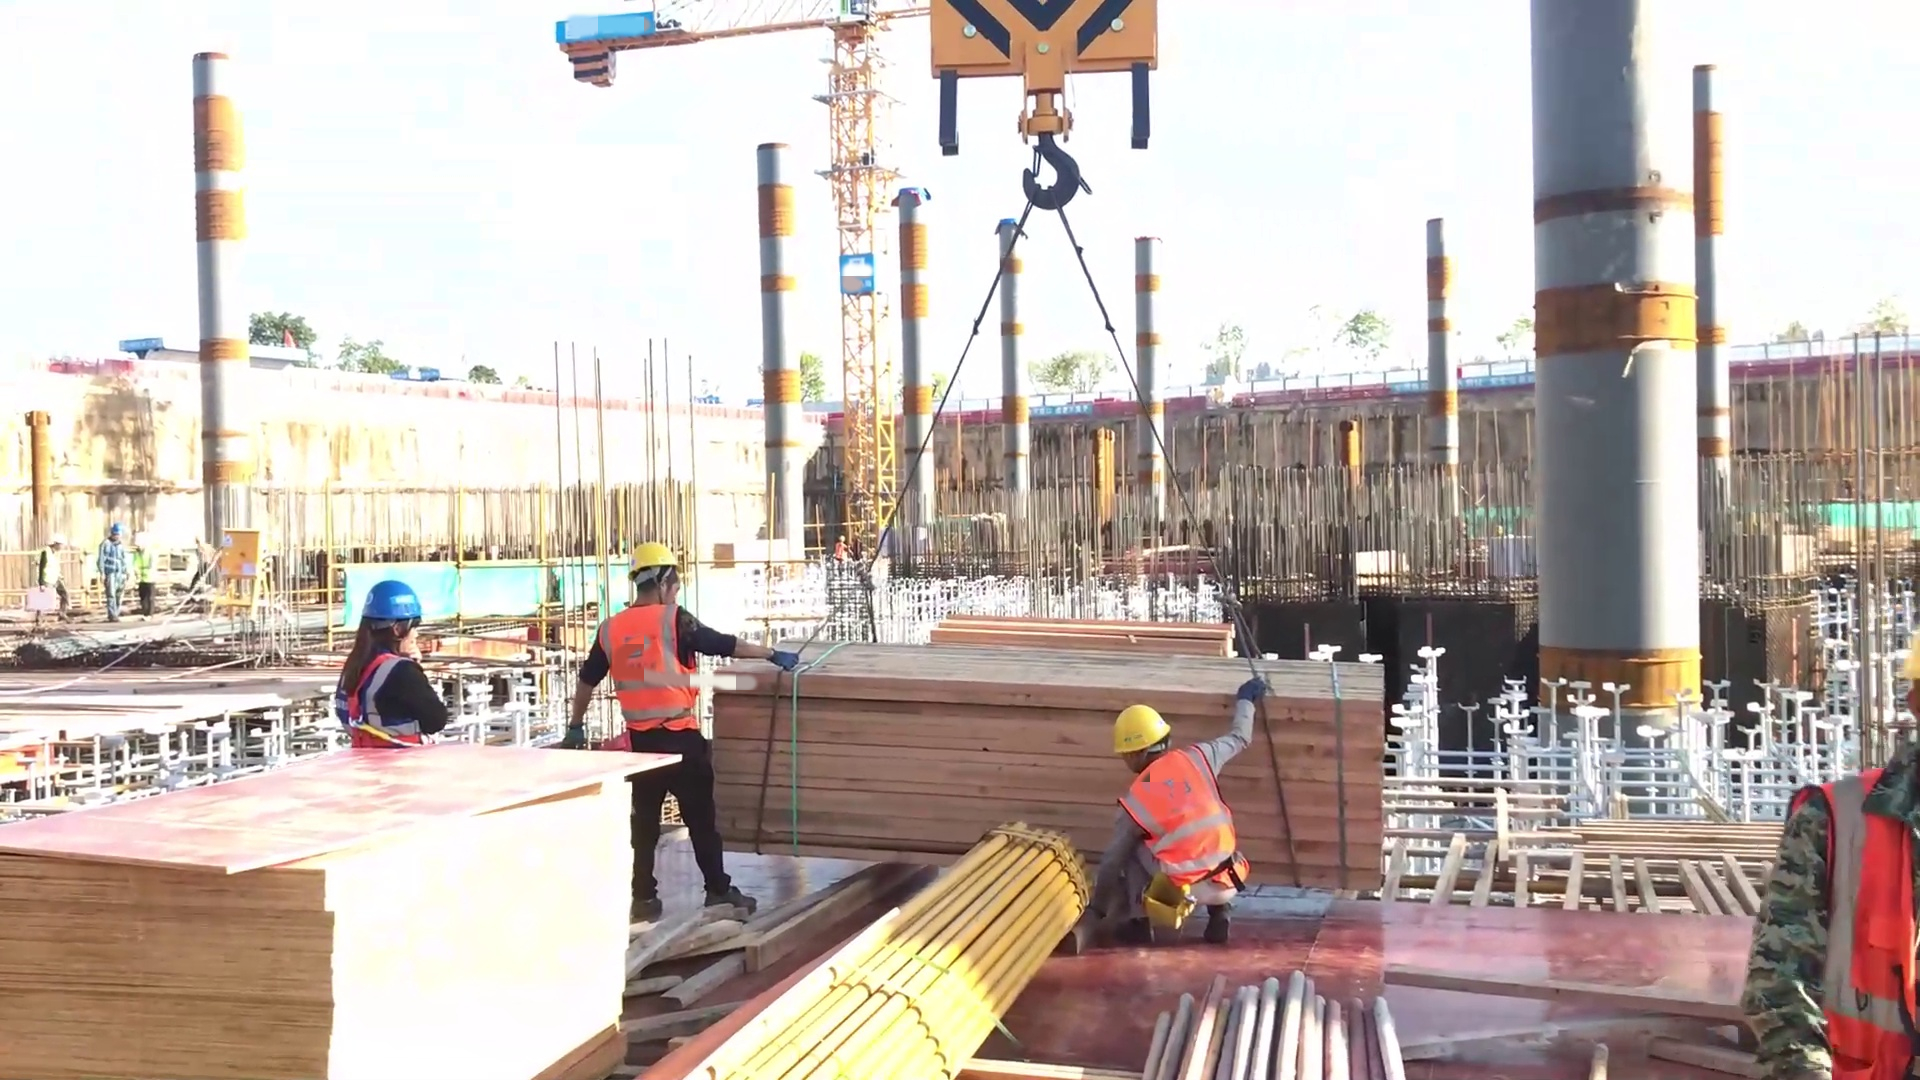board: (1, 746, 709, 1078)
ebox: (206, 515, 279, 626)
helmet: (342, 573, 440, 631), (1109, 689, 1181, 761), (617, 524, 700, 574)
hook: (917, 1, 1179, 215)
person: (1721, 599, 1917, 1080), (565, 506, 797, 914), (1071, 656, 1309, 957), (335, 569, 469, 754), (101, 522, 155, 627)
vest: (1793, 780, 1914, 1080), (1104, 741, 1246, 899), (589, 600, 706, 743), (324, 641, 427, 756), (102, 531, 132, 570), (131, 554, 163, 581)
wood: (697, 639, 1408, 923)
